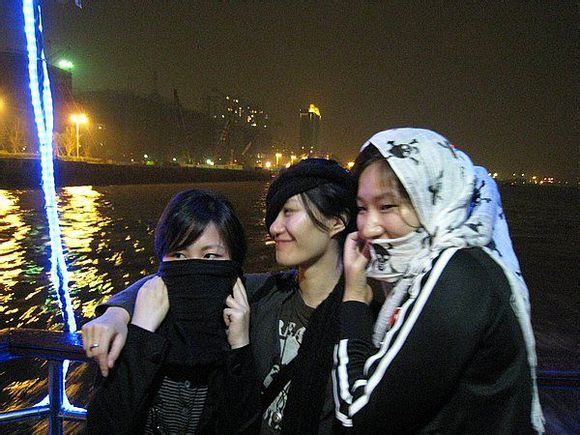face: (357, 170, 430, 258), (269, 190, 333, 266)
face_mask: (160, 223, 232, 300)
